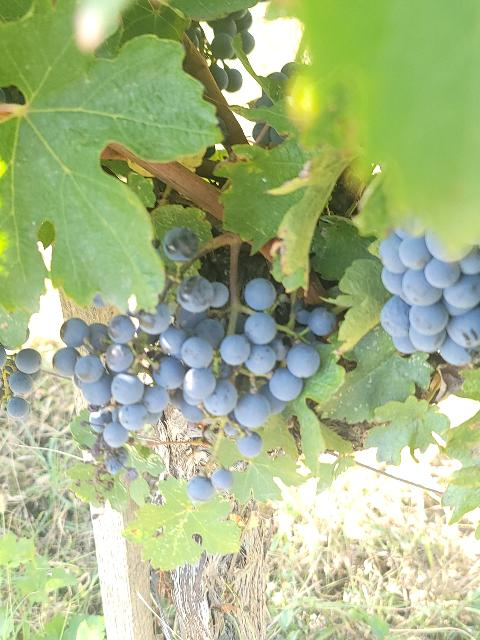grapes: (58, 271, 335, 472)
